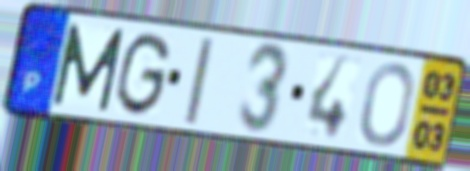3: (234, 38, 292, 141)
4: (304, 53, 351, 143)
G: (112, 30, 173, 119)
I: (182, 35, 217, 127)
M: (50, 20, 128, 114)
O: (357, 60, 417, 149)
